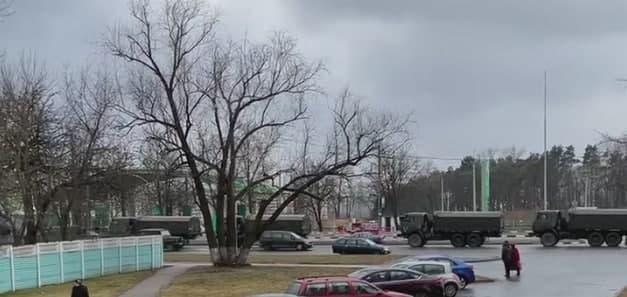car: (132, 228, 184, 253), (331, 237, 389, 255), (261, 231, 315, 249)
person: (511, 243, 523, 276), (502, 240, 512, 277)
truck: (397, 211, 505, 246), (529, 208, 627, 246), (108, 216, 204, 238), (222, 216, 312, 233)
